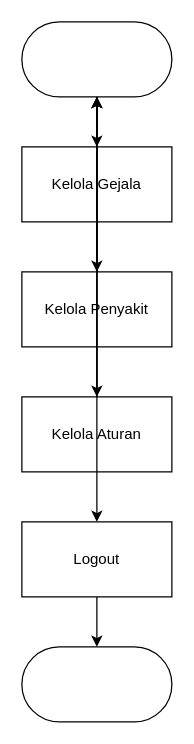
The diagram is 194 pixels wide and 744 high, and some of its shapes have lost their labels. Each missing label, with the centre of its shape:
"Dashboard Index" belongs at point 96,59.
"Halaman Login" belongs at point 96,684.
